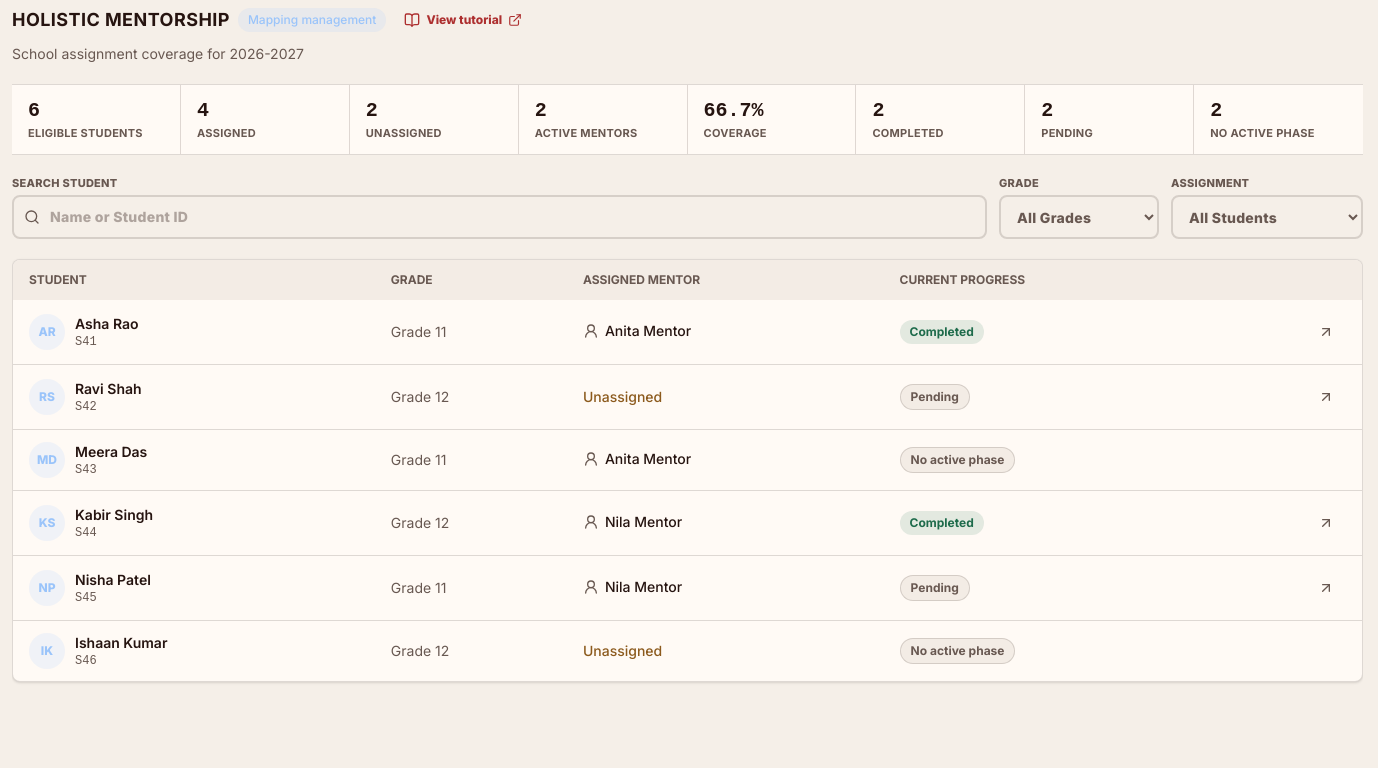
Test: AdminSchoolRoster › keeps the whole-school summary when only the assignment filter is active
Step 1. Select "Unassigned" in the dropdown named "Filter by Assignment" → x=1267, y=217, box [1171,195,1363,239]
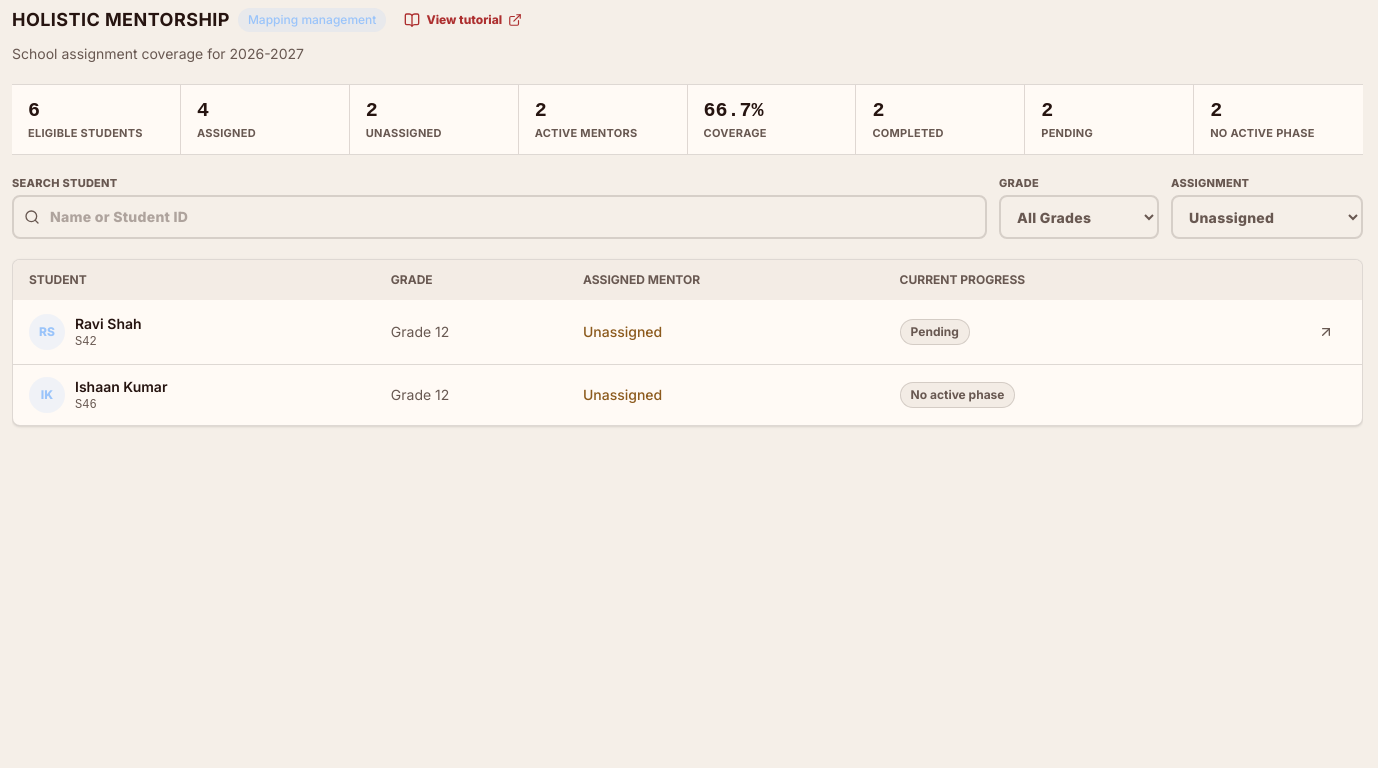
Expected: the text "Ravi Shah" is shown, [75,314,142,334]
Expected: the text "Asha Rao" is gone
